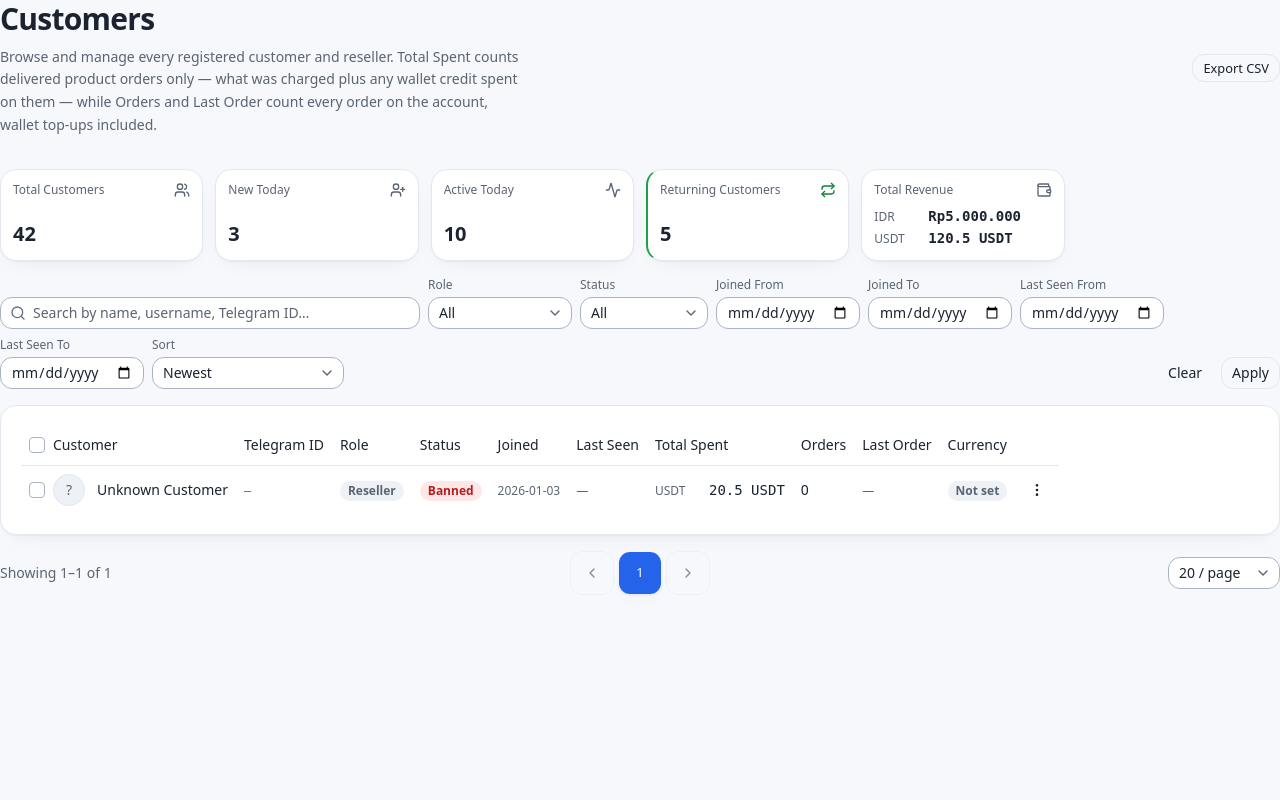
UsersPage › Unban (for an already-banned row) posts banned: "0" and shows a success toast
Expected: the text "Unknown Customer" is shown, top-left (97, 480), bottom-right (228, 500)
Click the button named "actions for 2": (1037, 490) top-left (1023, 476), bottom-right (1051, 504)
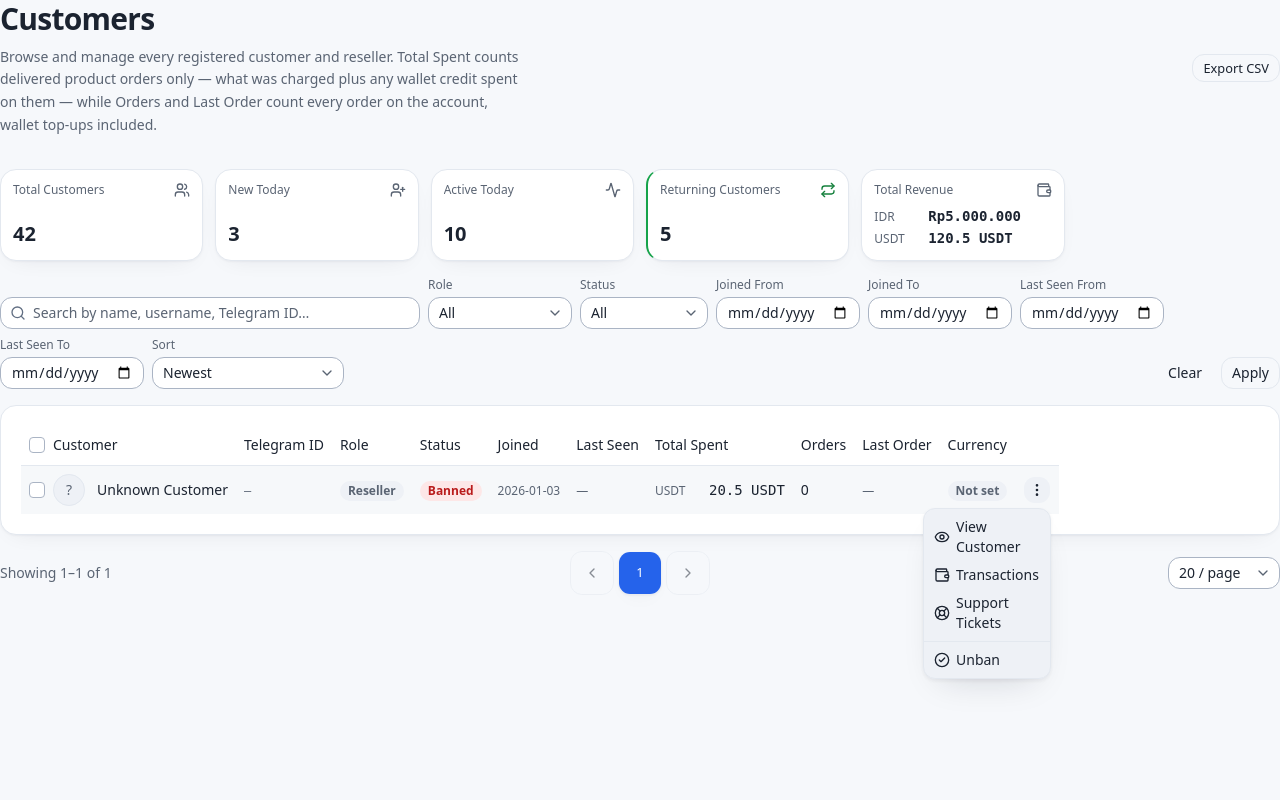
Click the menu item "Unban": (967, 660) top-left (934, 650), bottom-right (1000, 669)
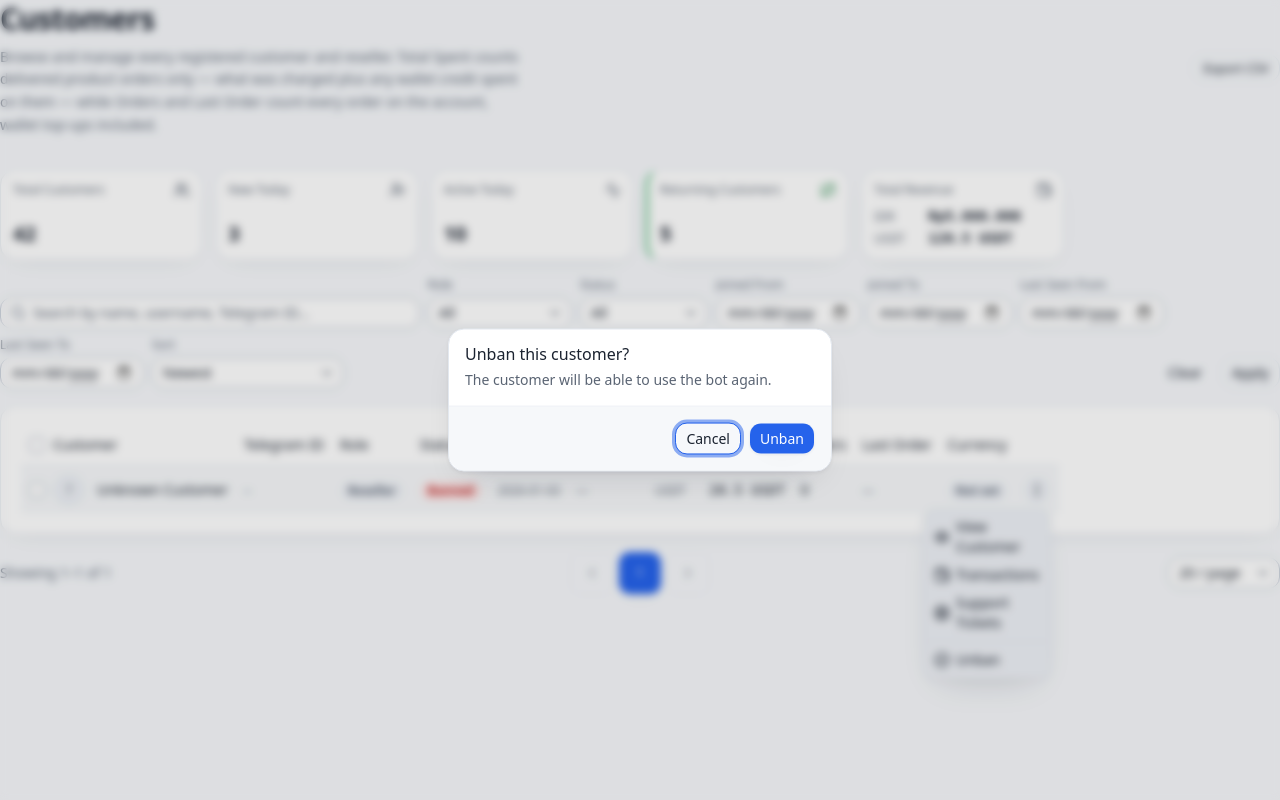
Now the heading "Unban this customer?" is shown, box top-left (465, 342), bottom-right (629, 364)
Click the button "Unban": (782, 438) top-left (749, 422), bottom-right (815, 454)
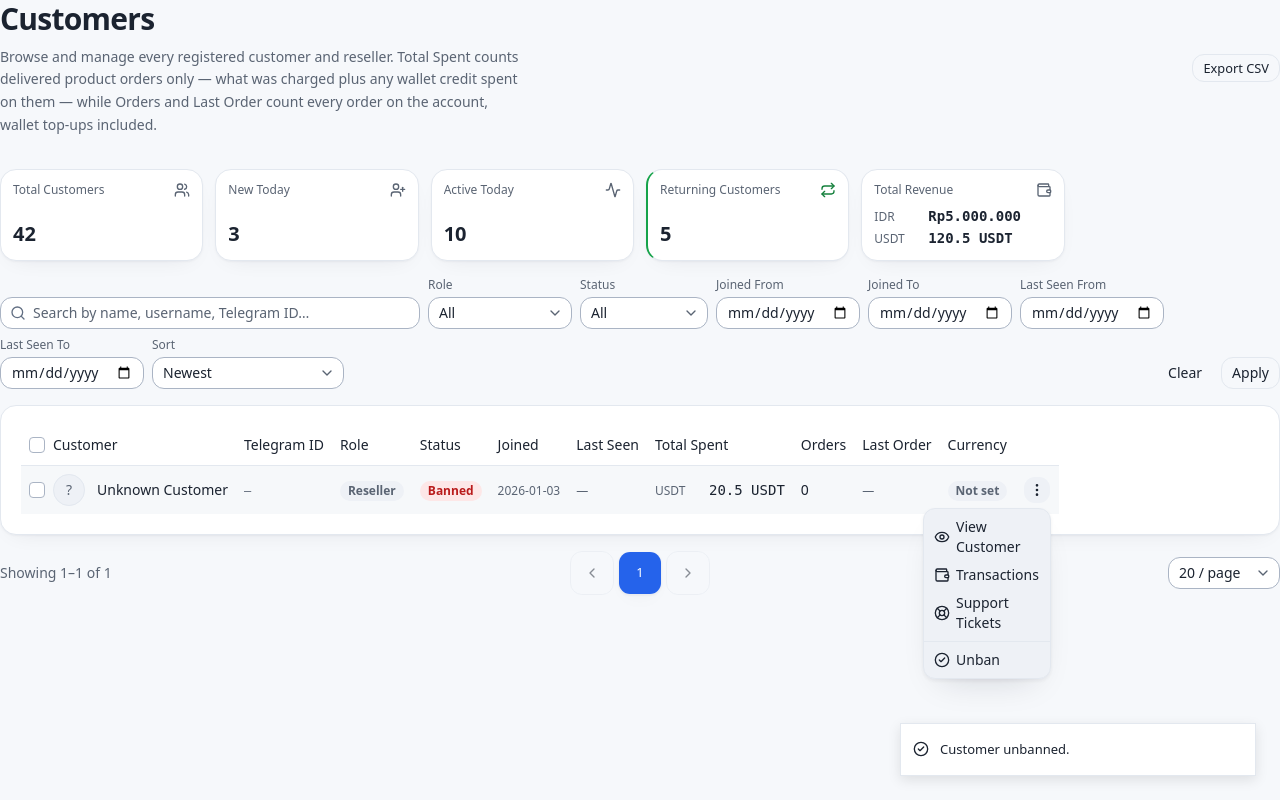
Now the text "Customer unbanned." is shown, box top-left (940, 740), bottom-right (1070, 759)
